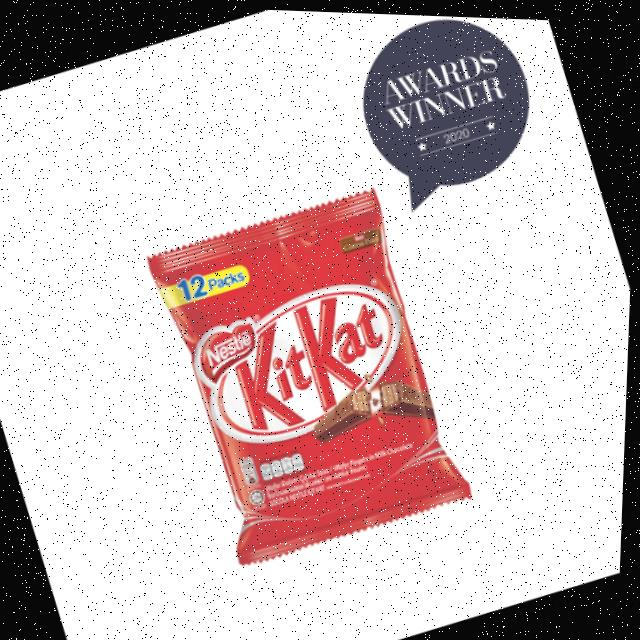kitkat: (139, 172, 487, 570)
